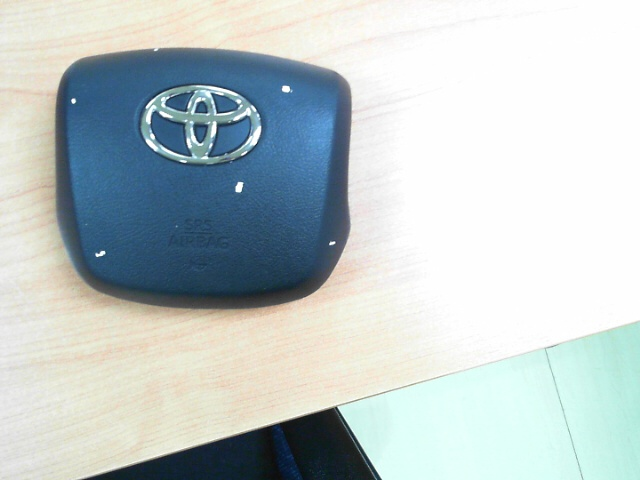Airbag: (234, 181, 244, 193), (281, 84, 292, 94), (95, 251, 106, 258), (329, 240, 336, 247), (71, 98, 76, 104)
